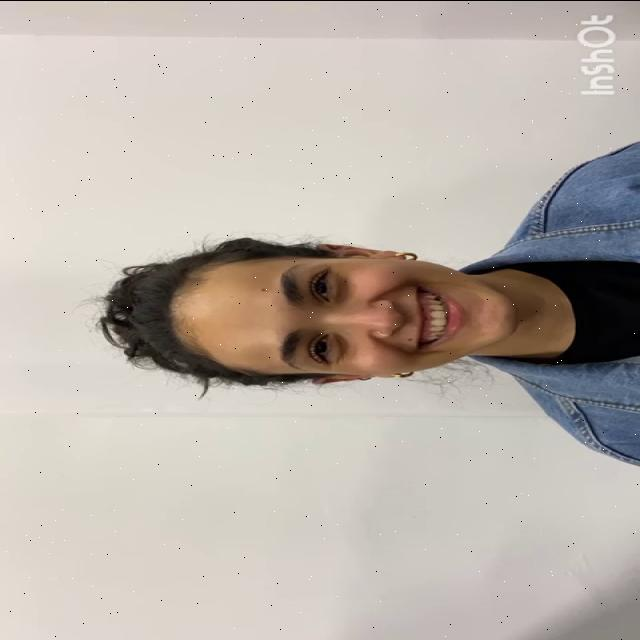happy: (172, 259, 517, 373)
